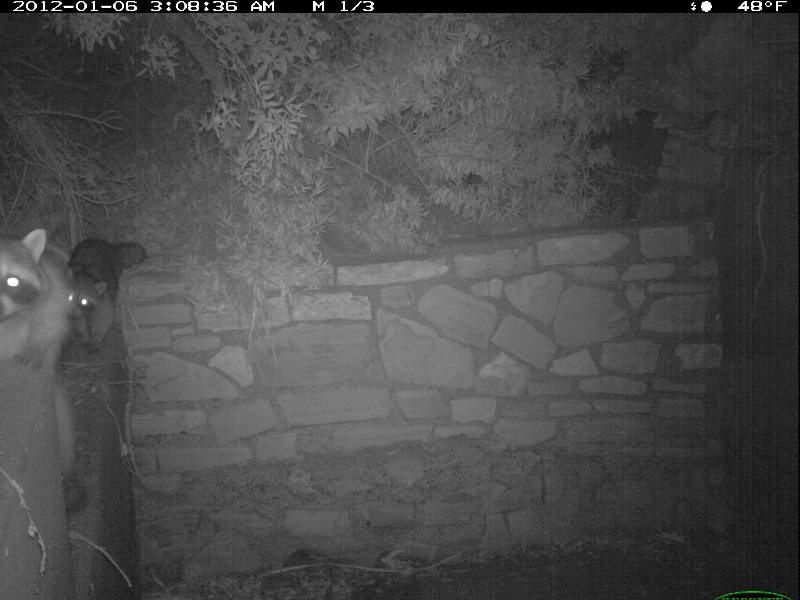raccoon: (1, 227, 86, 511), (65, 235, 147, 358)
